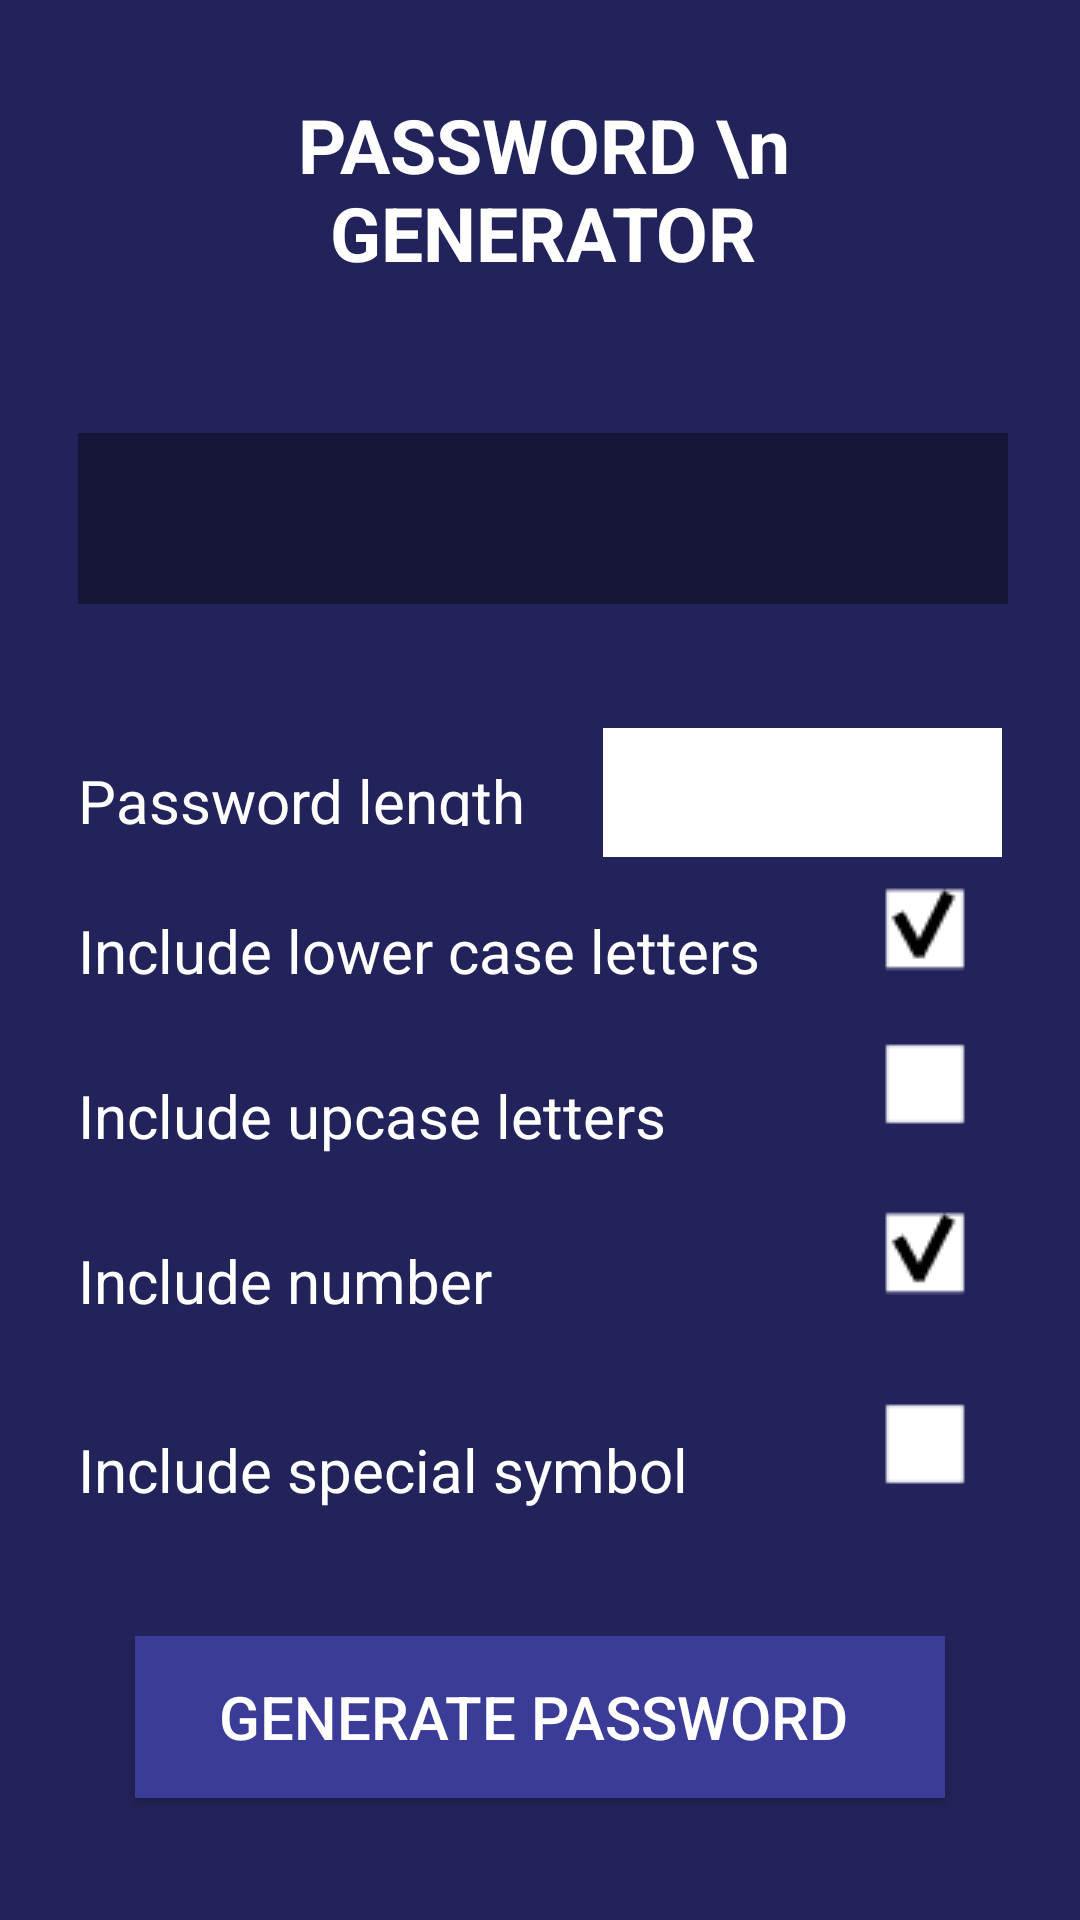

Screen size 1080w x 1920h. Icon name, then its center in pixels as (x=x, y=y):
check box: (x=925, y=929), (x=925, y=1084), (x=925, y=1253), (x=925, y=1444)
